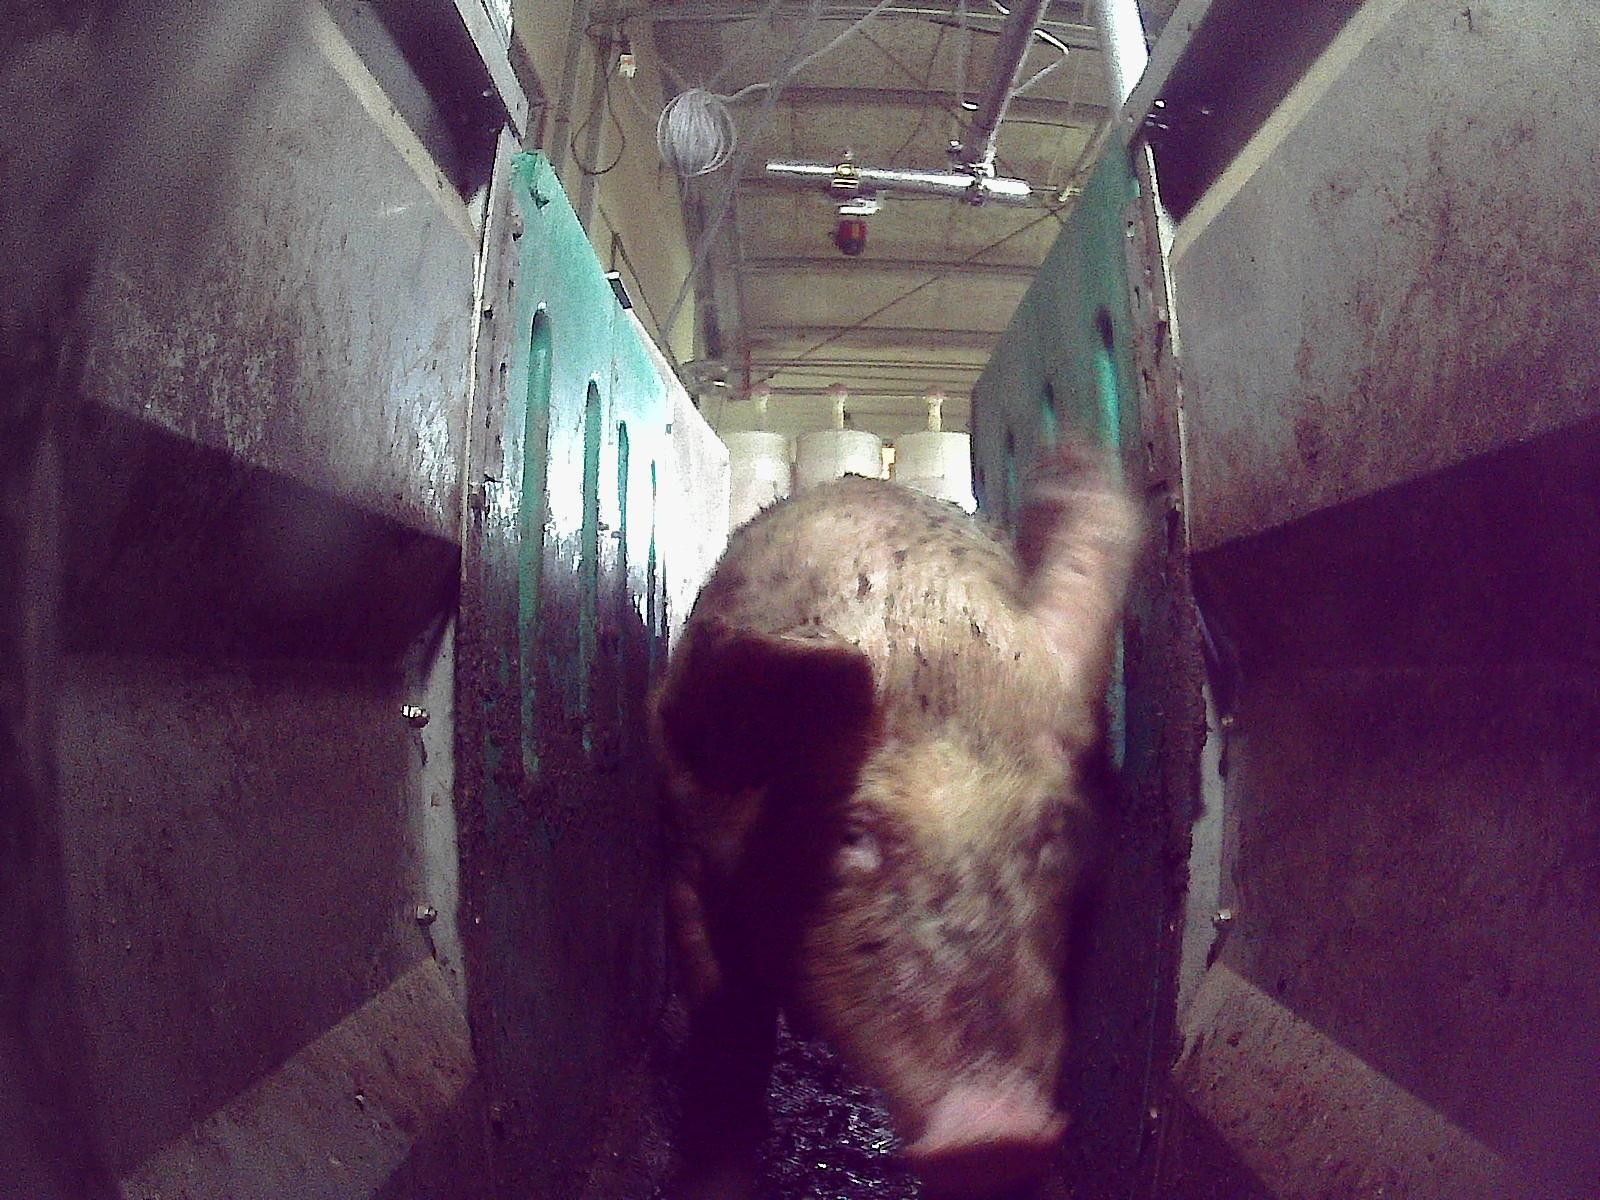Face: (753, 681, 1081, 1183)
